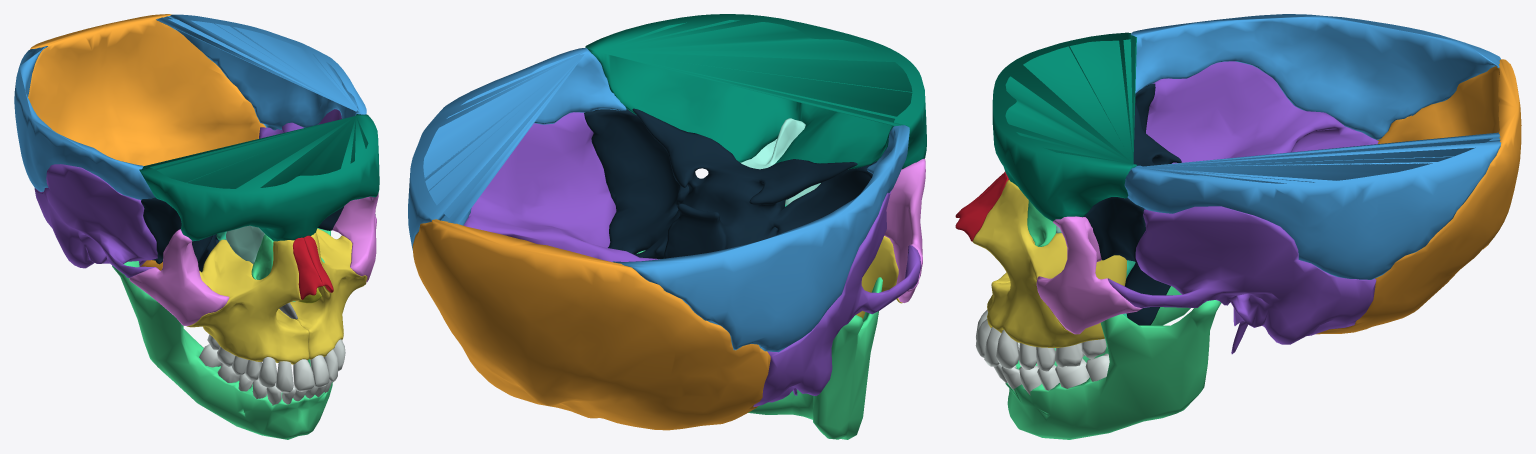
The model's file is skullbase_opt1.fbx.
3 renders of one model, left to right at view 1: azimuth 30°, elevation 25°; view 2: azimuth 150°, elevation 25°; view 3: azimuth 270°, elevation 25°, orthographic. The views are drawn at different scales.
Visible parts, largest first — view 1: Occipital bone.001, Frontal bone.001, Maxilla bone.r.001, Parietal bone.l.001, Mandible bone.001, Temporal bones, Zygomatic bones, Parietal bone.r.001, Sphenoid bone.001, Nasal bone, Upper medial incisors, Ethmoid Bone.001 (+3 smaller); view 2: Occipital bone.001, Frontal bone.001, Sphenoid bone.001, Temporal bones, Parietal bone.r.001, Parietal bone.l.001, Mandible bone.001, Zygomatic bones, Ethmoid Bone.001, Maxilla bone.r.001; view 3: Temporal bones, Parietal bone.l.001, Parietal bone.r.001, Frontal bone.001, Occipital bone.001, Mandible bone.001, Maxilla bone.r.001, Sphenoid bone.001, Zygomatic bones, Nasal bone, Lacrimal bones, Upper canines (+2 smaller).
Part boxes in pixels (x1,y1,x2,y2): Occipital bone.001: (28,14,265,270); Frontal bone.001: (139,114,379,241); Maxilla bone.r.001: (186,228,367,364); Parietal bone.l.001: (156,14,366,130); Mandible bone.001: (112,228,332,439); Temporal bones: (34,109,375,277); Zygomatic bones: (129,193,378,325); Parietal bone.r.001: (14,46,155,200); Sphenoid bone.001: (141,197,343,272); Nasal bone: (293,235,333,299); Upper medial incisors: (293,355,329,391); Ethmoid Bone.001: (226,225,264,264); Occipital bone.001: (412,219,770,430); Frontal bone.001: (585,14,926,169); Sphenoid bone.001: (584,108,877,258); Temporal bones: (464,112,921,406); Parietal bone.r.001: (612,125,909,352); Parietal bone.l.001: (408,48,626,250); Mandible bone.001: (637,250,882,439); Zygomatic bones: (884,158,925,302); Ethmoid Bone.001: (740,118,820,205); Maxilla bone.r.001: (856,236,902,319); Temporal bones: (1108,61,1378,354); Parietal bone.l.001: (1124,132,1501,279); Parietal bone.r.001: (1131,14,1500,139); Frontal bone.001: (992,32,1136,221); Occipital bone.001: (1316,59,1521,334); Mandible bone.001: (1005,286,1221,439); Maxilla bone.r.001: (972,180,1126,347); Sphenoid bone.001: (1083,83,1181,325); Zygomatic bones: (1036,216,1142,334); Nasal bone: (955,171,1008,241); Lacrimal bones: (1027,200,1056,246); Upper canines: (995,329,1018,369).
Bounding box in the file's own units: 14.85 × 12.87 × 20.38.
